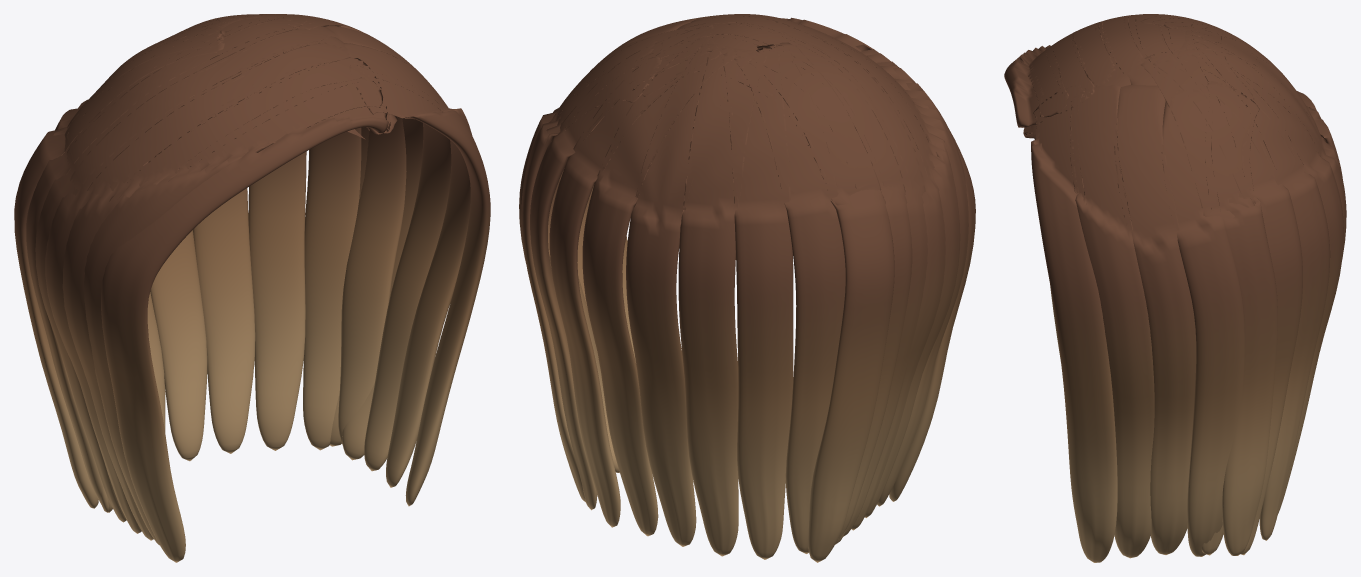
File: Feminine-straight-headband260-hair-ombre.glb
The picture shows the model from 3 angles, left to right: view 1: azimuth 30°, elevation 25°; view 2: azimuth 150°, elevation 25°; view 3: azimuth 270°, elevation 25°; orthographic projection. The views are drawn at different scales.
Parts seen in each view (by area): view 1: 226 hair / Hair / sculpted 0.001, 226 hair / Hair / sculpted 1.002, 226 hair / Hair / sculpted 2.001; view 2: 226 hair / Hair / sculpted 0.001, 226 hair / Hair / sculpted 2.001, 226 hair / Hair / sculpted 1.002; view 3: 226 hair / Hair / sculpted 1.002, 226 hair / Hair / sculpted 2.001, 226 hair / Hair / sculpted 0.001.
Part boxes in pixels (box(x1,y1,x2,y2)): 226 hair / Hair / sculpted 0.001: box(14, 14, 451, 562); 226 hair / Hair / sculpted 1.002: box(35, 14, 490, 545); 226 hair / Hair / sculpted 2.001: box(26, 14, 472, 540); 226 hair / Hair / sculpted 0.001: box(548, 14, 975, 562); 226 hair / Hair / sculpted 2.001: box(521, 14, 960, 553); 226 hair / Hair / sculpted 1.002: box(519, 14, 968, 559); 226 hair / Hair / sculpted 1.002: box(1020, 14, 1343, 562); 226 hair / Hair / sculpted 2.001: box(1046, 14, 1346, 558); 226 hair / Hair / sculpted 0.001: box(1004, 14, 1342, 554).
Bounding box in the file's own units: 1.02 × 1.17 × 0.7721.
